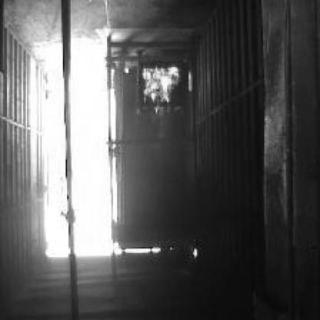Fire: (137, 61, 195, 110)
other: (42, 51, 120, 263), (122, 245, 198, 261)
